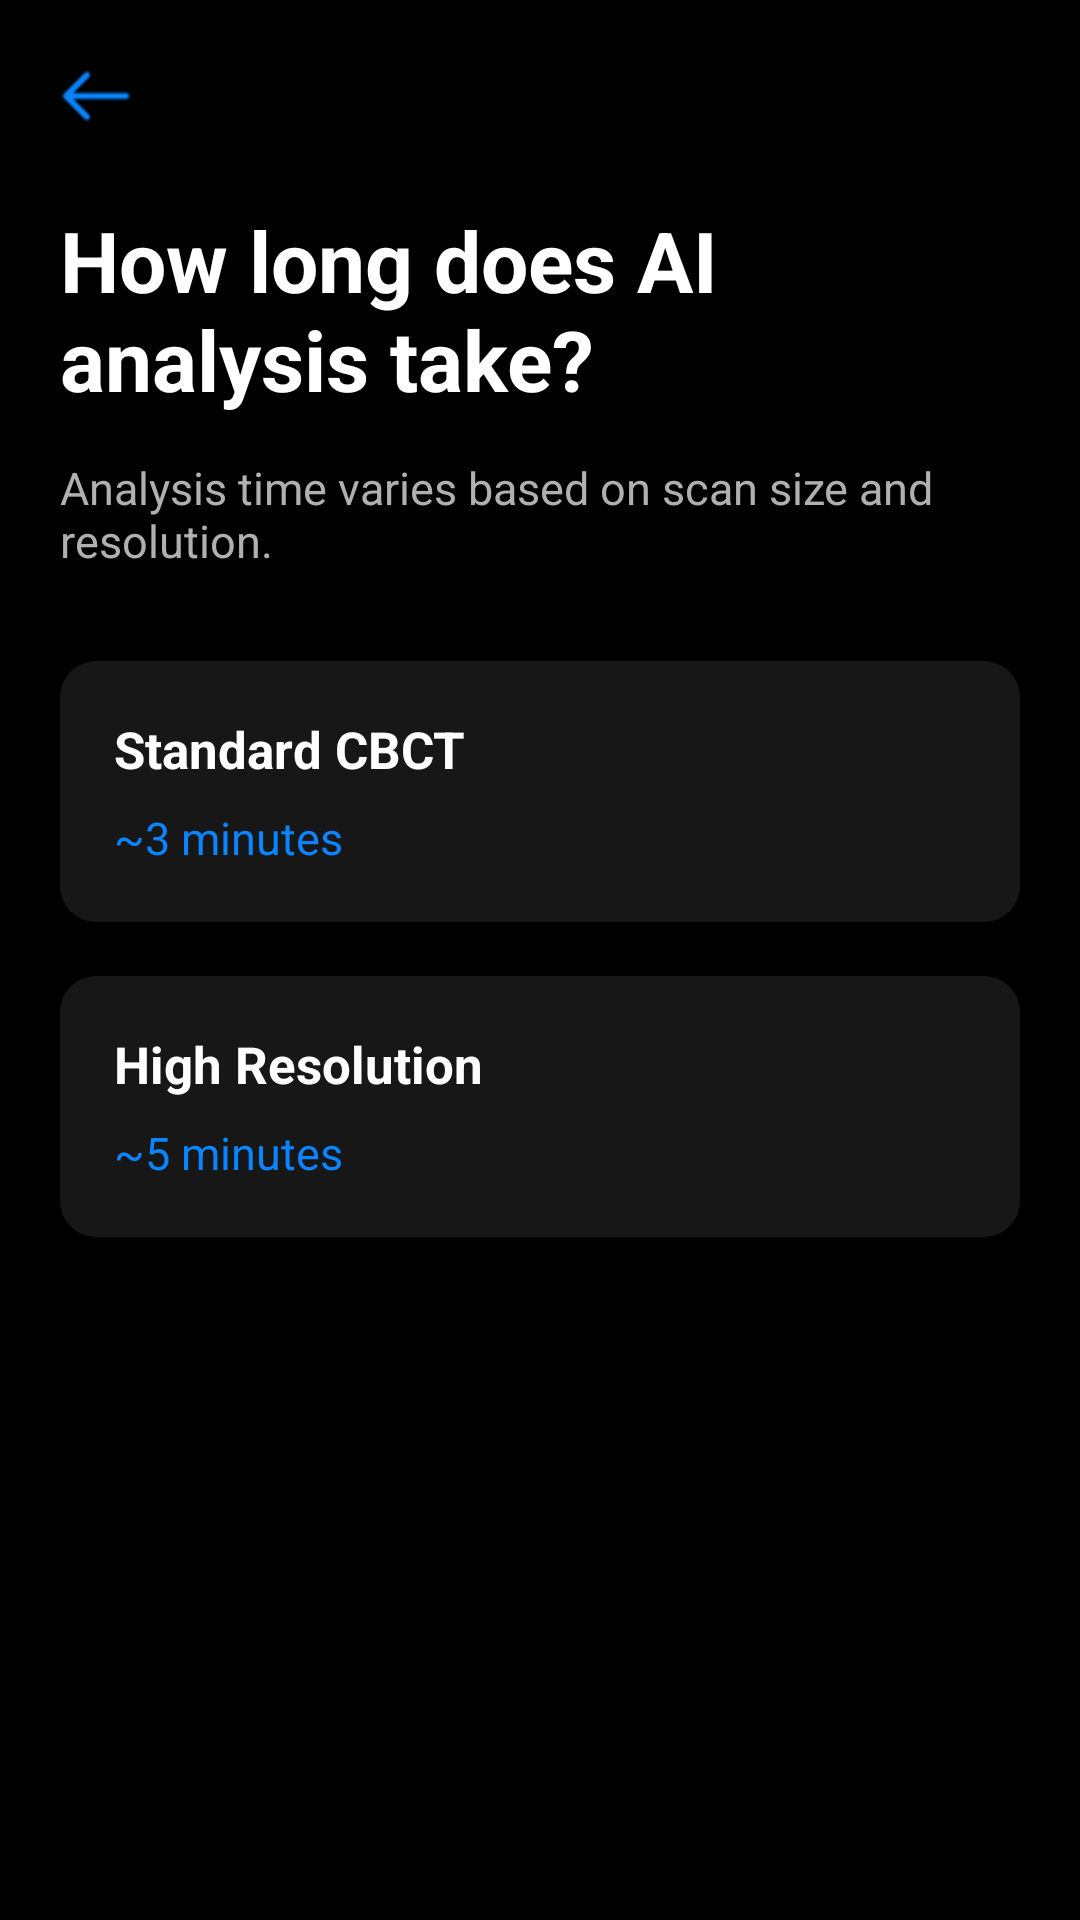

Where to tap for icons on this 1080x1920 app screen, as [x,y]:
back: [96,96]
